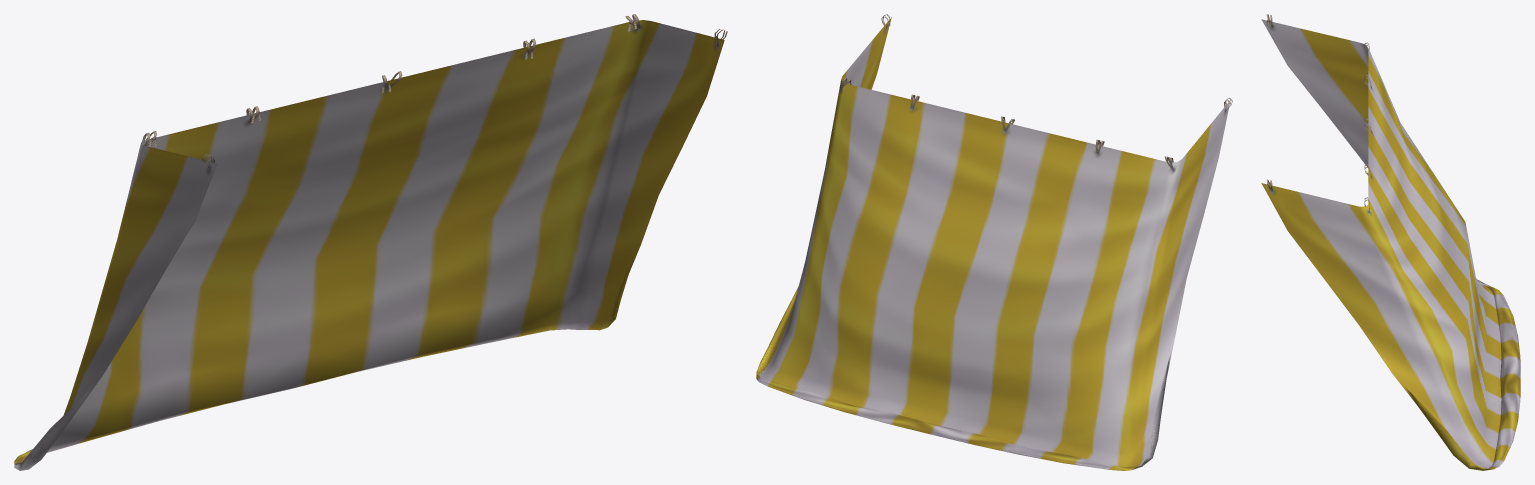
Rendered from jsf_BackSide_s02_c03_t02.fbx.
3 views of the same model, side by side, from view 1: azimuth 30°, elevation 25°; view 2: azimuth 150°, elevation 25°; view 3: azimuth 270°, elevation 25° (orthographic). The views are drawn at different scales.
Visible parts, largest first — view 1: jsf_BackSide_s02_c03_t02; view 2: jsf_BackSide_s02_c03_t02; view 3: jsf_BackSide_s02_c03_t02.
Part boxes in pixels (x1,y1,x2,y2): jsf_BackSide_s02_c03_t02: (14, 14, 727, 470); jsf_BackSide_s02_c03_t02: (756, 14, 1232, 470); jsf_BackSide_s02_c03_t02: (1261, 14, 1520, 470).
Size of the model in its own units: 296 by 205 by 171.
